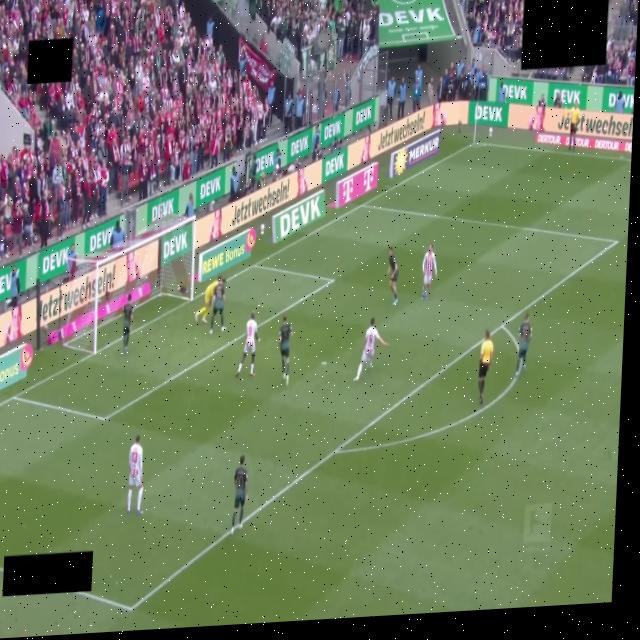player: (354, 318, 388, 381), (236, 312, 259, 377), (232, 455, 248, 534), (195, 275, 221, 323), (128, 436, 143, 514), (515, 313, 532, 378), (278, 315, 292, 385), (210, 278, 226, 334), (422, 244, 437, 300), (123, 294, 133, 353), (388, 247, 398, 304)
referee: (478, 330, 493, 404)
